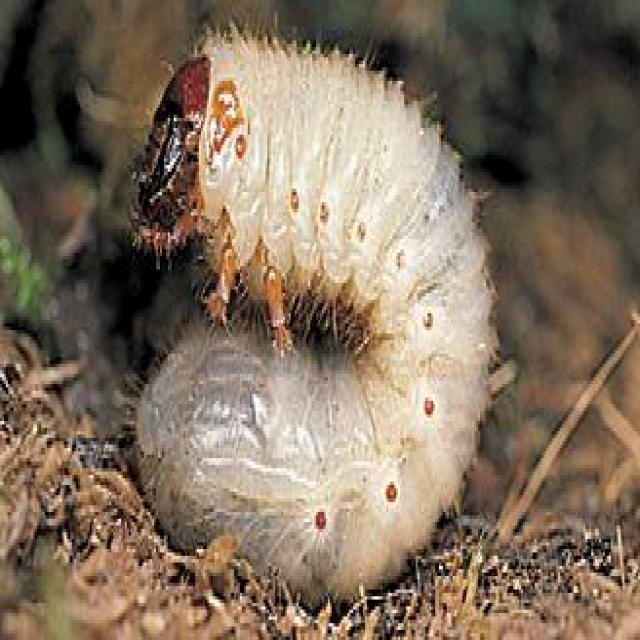Grub-Adult-: (112, 12, 514, 595)
